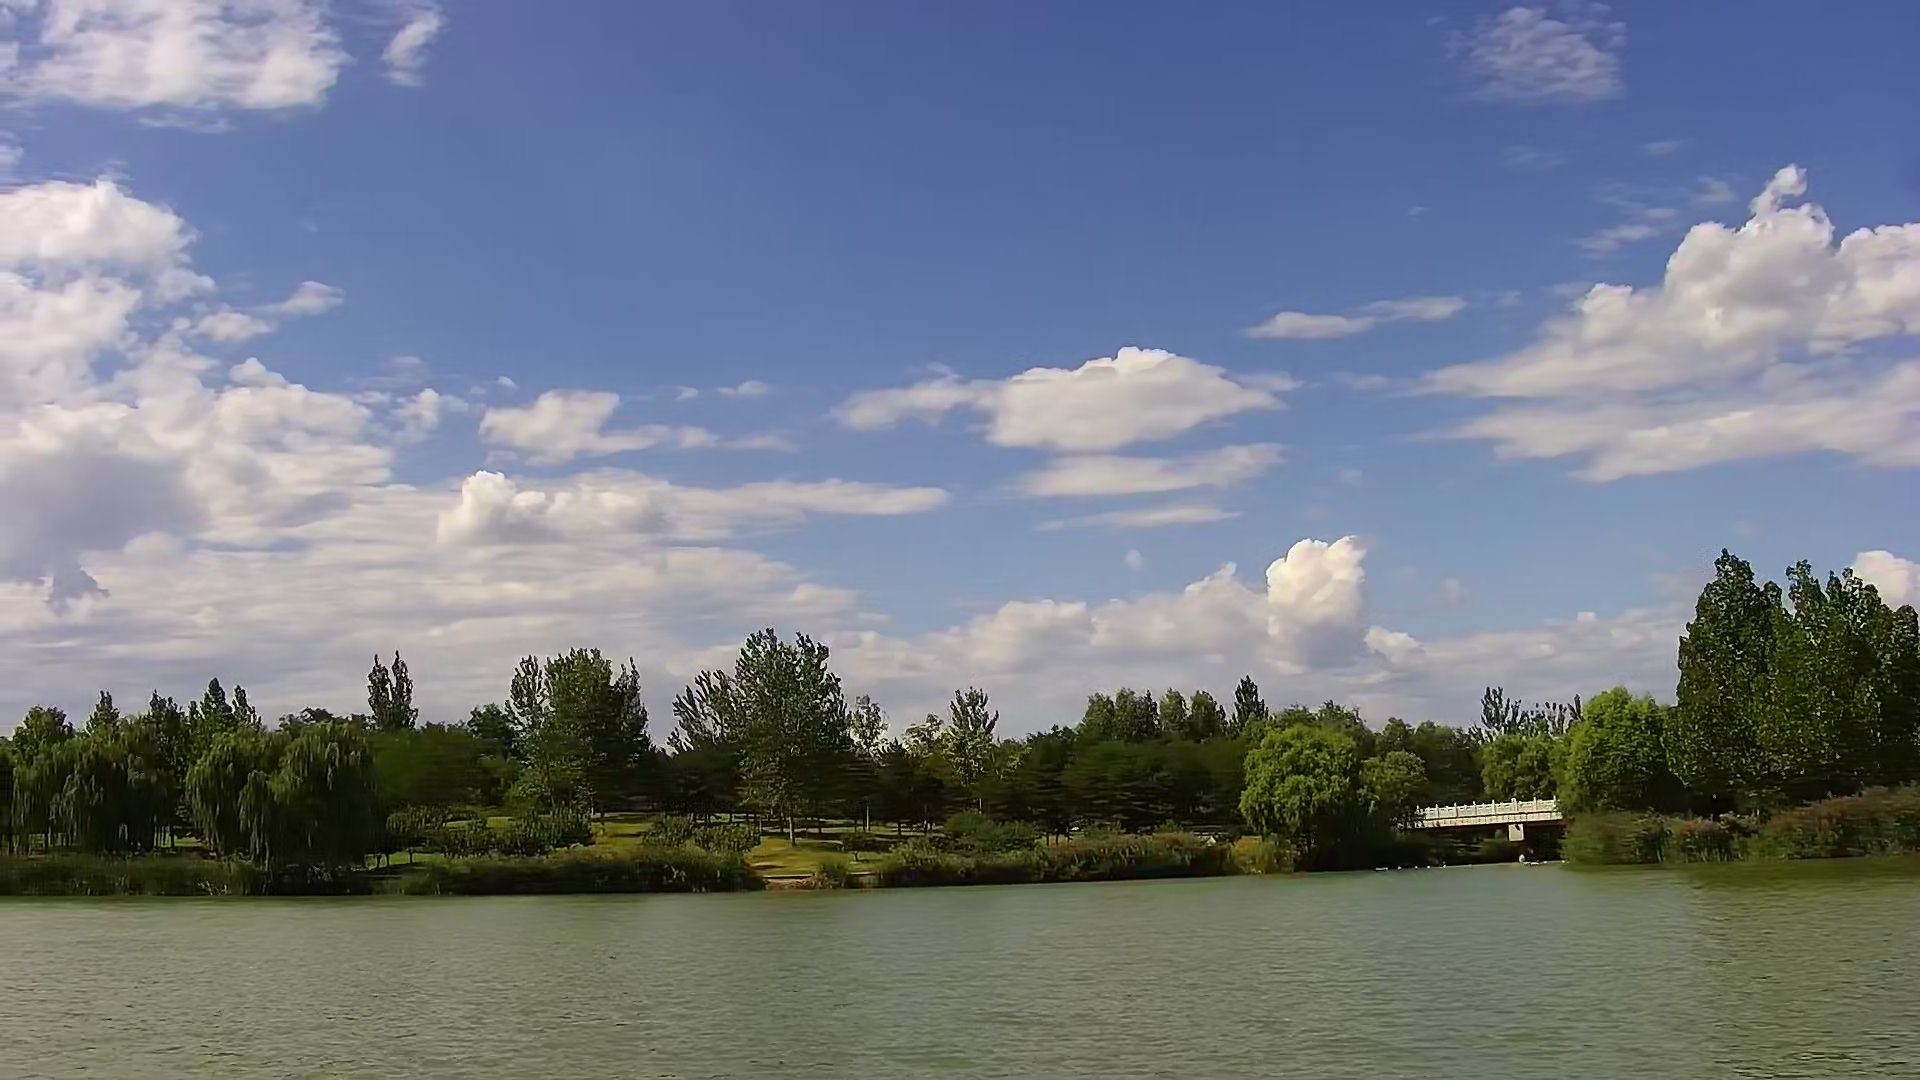bridge: (1419, 796, 1567, 868)
